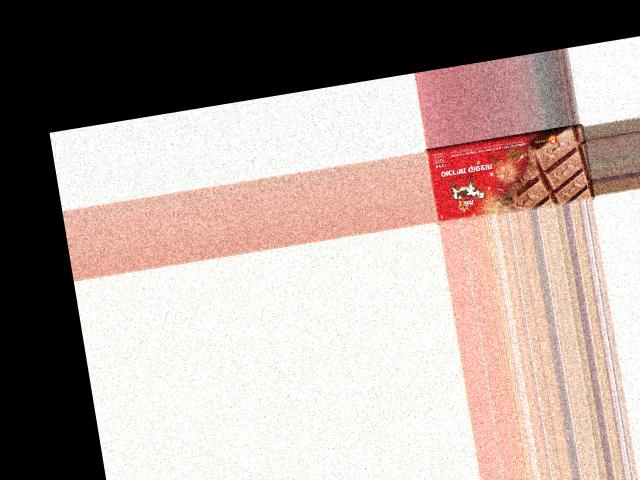chocolate: (423, 123, 594, 224)
